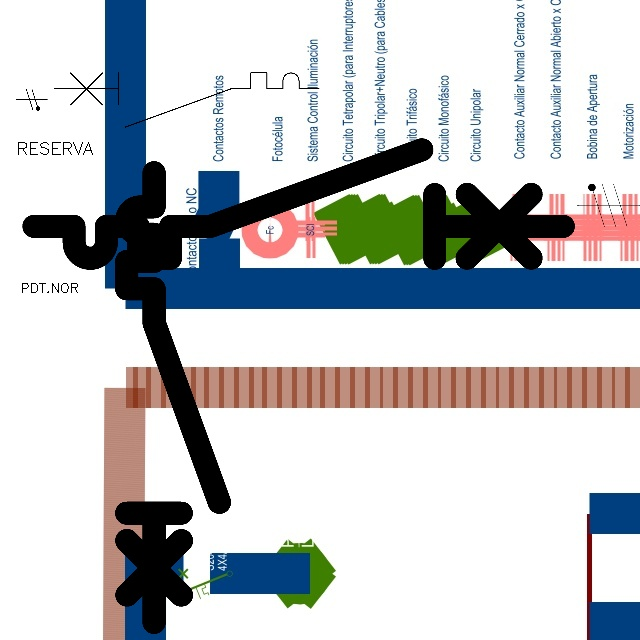interruptor_termomagnetico: (20, 136, 577, 272), (115, 161, 230, 633), (47, 66, 326, 134)
